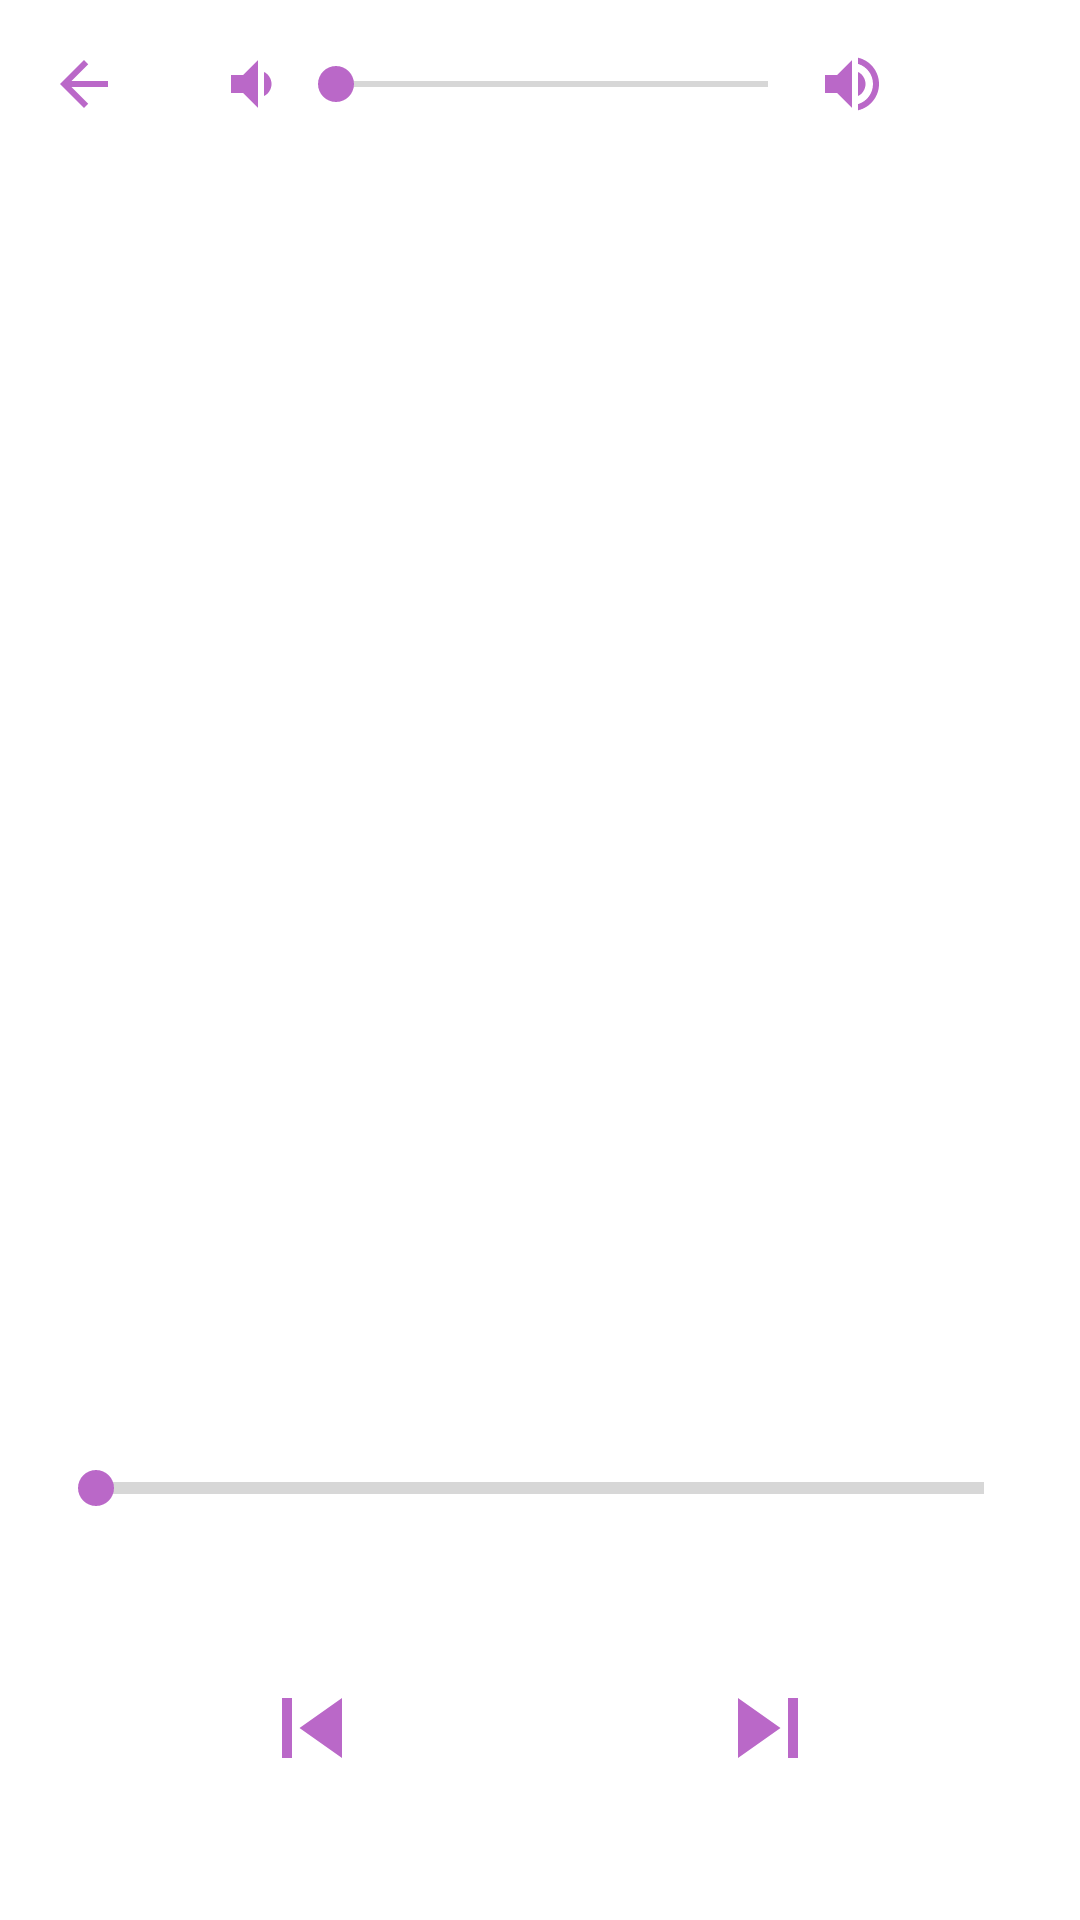

Icon click points for this 1080px×1920px phone screenshot, format point (x, y):
next: point (768, 1728)
prev: point (312, 1728)
